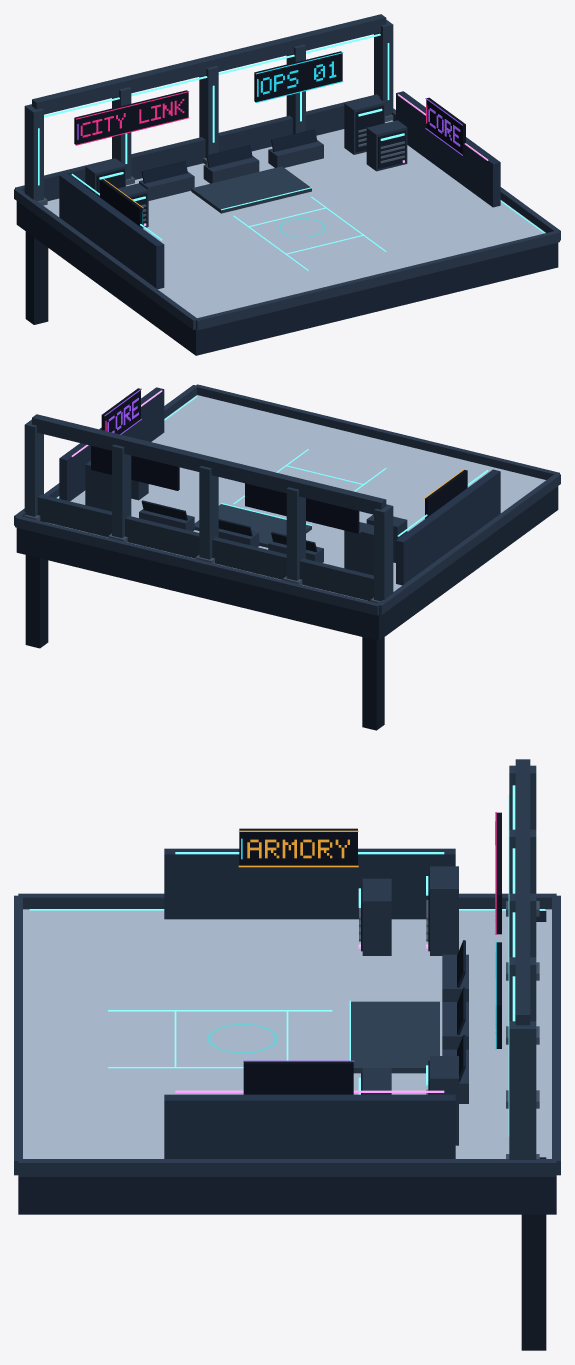
Rendered from lobby.glb.
3 renders of one model, top to bottom at view 1: azimuth 30°, elevation 25°; view 2: azimuth 150°, elevation 25°; view 3: azimuth 270°, elevation 25°, orthographic. The views are drawn at different scales.
Parts seen in each view (by area): view 1: 작전실, Floor_Alloy, Neon_CITY_LINK, Neon_OPS_01, Neon_CORE, Luminous_Lettering (×2), Neon_ARMORY; view 2: 작전실, Floor_Alloy, Neon_CITY_LINK, Neon_OPS_01, Neon_CORE, Neon_ARMORY; view 3: 작전실, Floor_Alloy, Neon_ARMORY, Neon_CORE, Luminous_Lettering, Neon_CITY_LINK, Neon_OPS_01.
Boxes of the visible parts, <box> form: 작전실: <box>14,14,560,355</box>; Floor_Alloy: <box>43,120,545,317</box>; Neon_CITY_LINK: <box>74,90,189,145</box>; Neon_OPS_01: <box>254,51,343,102</box>; Neon_CORE: <box>425,97,465,155</box>; Luminous_Lettering (×2): <box>80,61,336,137</box>; Neon_ARMORY: <box>100,178,143,228</box>; 작전실: <box>14,384,560,730</box>; Floor_Alloy: <box>46,395,545,600</box>; Neon_CITY_LINK: <box>245,483,360,533</box>; Neon_OPS_01: <box>91,446,180,490</box>; Neon_CORE: <box>101,388,141,434</box>; Neon_ARMORY: <box>424,469,467,518</box>; 작전실: <box>14,759,560,1350</box>; Floor_Alloy: <box>23,909,551,1158</box>; Neon_ARMORY: <box>238,828,358,867</box>; Neon_CORE: <box>243,1060,354,1094</box>; Luminous_Lettering: <box>247,839,349,858</box>; Neon_CITY_LINK: <box>495,812,501,934</box>; Neon_OPS_01: <box>495,941,501,1049</box>.
Size of the model in its own units: 28.4 by 16.5 by 24.4.
